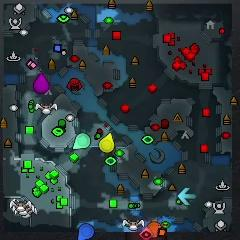p1: (78, 222, 94, 240)
p2: (73, 132, 91, 150)
p3: (34, 74, 49, 95)
p4: (100, 132, 115, 152)
p5: (142, 221, 165, 237)
x3: (177, 189, 197, 205)
